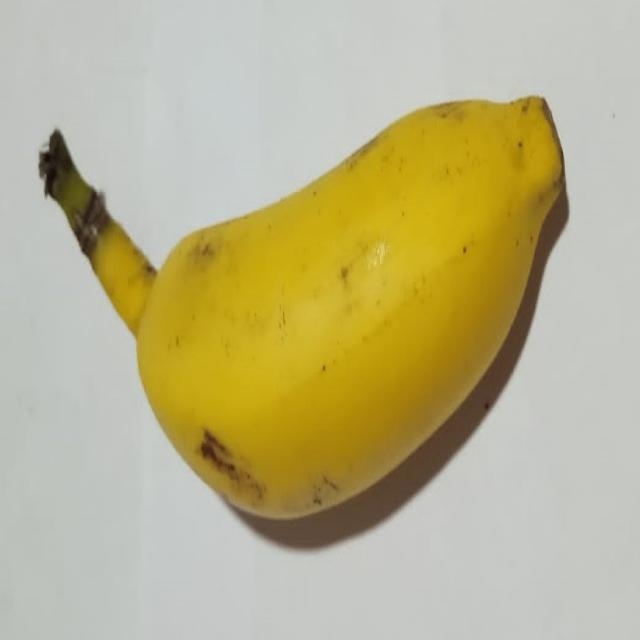banana: (41, 97, 563, 518)
